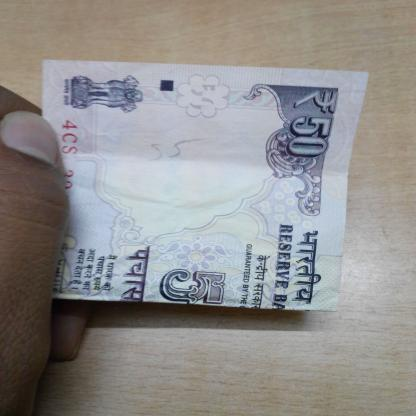Old50Front: (40, 59, 370, 312)
